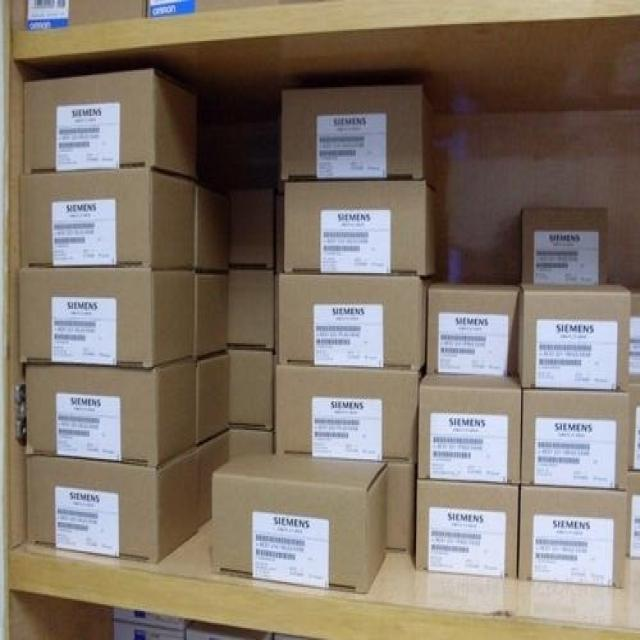box: (211, 454, 388, 594), (27, 447, 200, 563), (23, 68, 197, 179), (26, 358, 197, 468), (20, 167, 197, 270), (18, 270, 195, 369), (282, 85, 435, 188), (275, 362, 428, 464), (279, 273, 439, 370), (282, 181, 435, 275), (517, 283, 631, 391), (518, 485, 631, 589), (419, 372, 522, 485), (522, 387, 630, 490), (415, 480, 520, 579), (428, 283, 521, 375), (522, 207, 608, 283), (10, 0, 147, 32), (221, 188, 274, 268), (228, 348, 274, 430), (227, 270, 274, 350), (192, 273, 229, 358), (197, 430, 229, 527), (195, 184, 230, 271), (196, 352, 229, 444), (387, 463, 417, 553), (146, 0, 283, 17), (229, 428, 274, 459), (628, 288, 640, 382), (628, 382, 640, 469), (628, 471, 640, 558)
